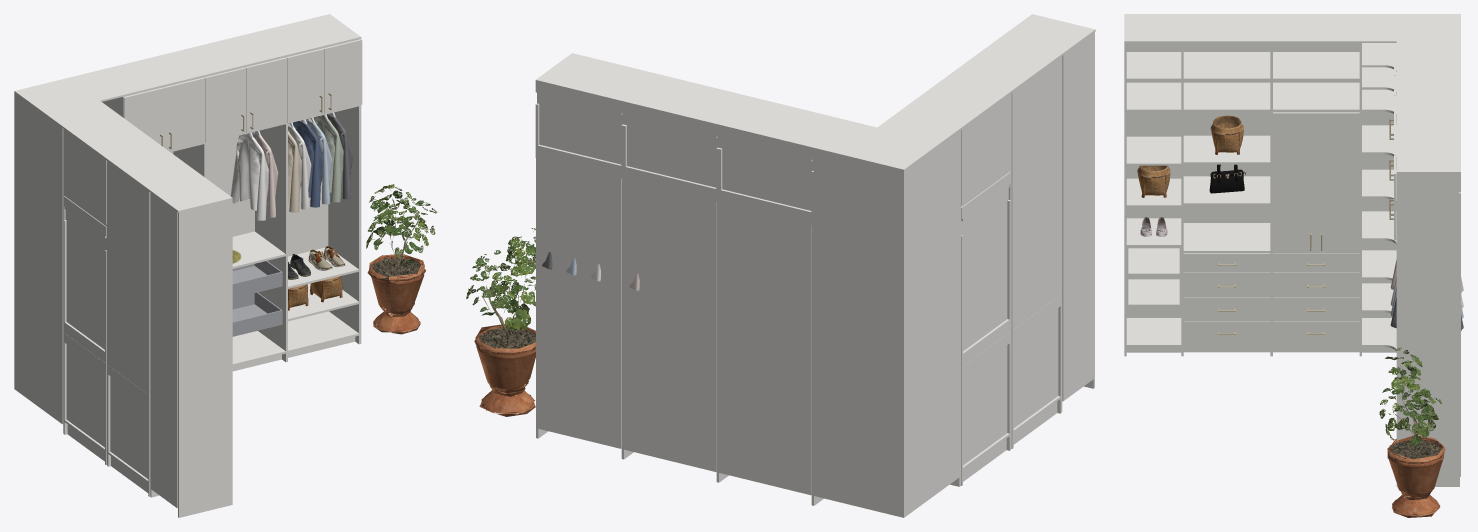
File: showroom-closet.glb
3 renders of one model, left to right at view 1: azimuth 30°, elevation 25°; view 2: azimuth 150°, elevation 25°; view 3: azimuth 270°, elevation 25°, orthographic. The views are drawn at different scales.
Parts seen in each view (by area): view 1: showroom-closet.002, mv_showroom-closet_003, mv_showroom-closet_002, mv_showroom-closet_000, mv_showroom-closet_004, mv_showroom-closet_005, mv_showroom-closet_001; view 2: showroom-closet.002; view 3: showroom-closet.002, mv_showroom-closet_015, mv_showroom-closet_014, mv_showroom-closet_011, mv_showroom-closet_007, mv_showroom-closet_012, mv_showroom-closet_013, mv_showroom-closet_008, mv_showroom-closet_009, mv_showroom-closet_010, mv_showroom-closet_006.
Boxes of the visible parts, <box> form: showroom-closet.002: <box>14,14,437,517</box>; mv_showroom-closet_003: <box>205,67,246,142</box>; mv_showroom-closet_002: <box>245,57,286,132</box>; mv_showroom-closet_000: <box>164,77,205,151</box>; mv_showroom-closet_004: <box>324,39,362,113</box>; mv_showroom-closet_005: <box>286,48,324,122</box>; mv_showroom-closet_001: <box>123,87,164,147</box>; showroom-closet.002: <box>466,14,1095,517</box>; showroom-closet.002: <box>1124,14,1463,517</box>; mv_showroom-closet_015: <box>1316,112,1359,253</box>; mv_showroom-closet_014: <box>1273,112,1316,253</box>; mv_showroom-closet_011: <box>1183,272,1270,296</box>; mv_showroom-closet_007: <box>1273,272,1359,296</box>; mv_showroom-closet_012: <box>1183,297,1270,320</box>; mv_showroom-closet_013: <box>1183,321,1270,344</box>; mv_showroom-closet_008: <box>1273,297,1359,320</box>; mv_showroom-closet_009: <box>1273,321,1359,344</box>; mv_showroom-closet_010: <box>1183,253,1270,272</box>; mv_showroom-closet_006: <box>1273,253,1359,272</box>.
Size of the model in its own units: 3.7 by 2.75 by 2.68.
40 materials, 31 textured.
